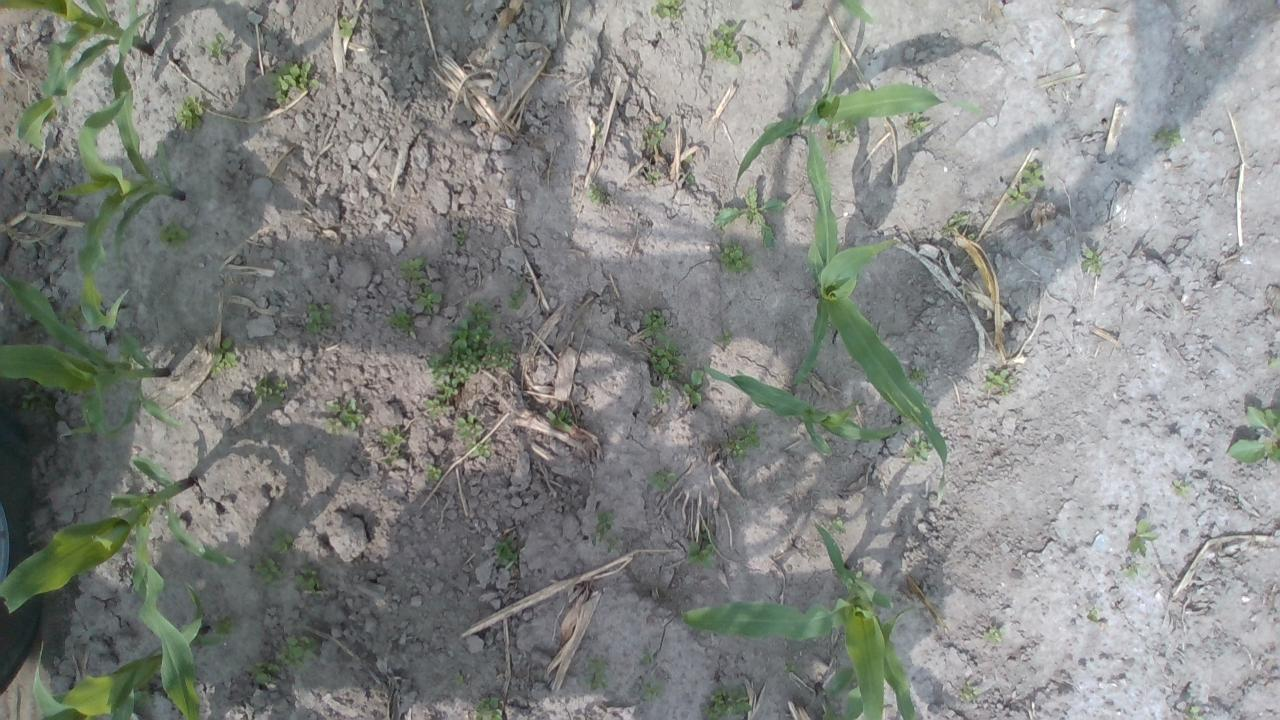Maize: (0, 455, 231, 719), (734, 39, 947, 265), (681, 525, 922, 717), (792, 243, 948, 505), (56, 88, 190, 330), (0, 274, 177, 435), (34, 584, 210, 718), (0, 0, 156, 149), (698, 360, 908, 458), (814, 662, 876, 720), (836, 1, 880, 26)
Weeds: (714, 186, 784, 246), (1225, 400, 1280, 470), (429, 350, 518, 378), (702, 682, 752, 720), (274, 61, 318, 104), (702, 20, 742, 65), (326, 396, 364, 434), (650, 338, 683, 380), (452, 319, 492, 350), (1128, 518, 1158, 558), (716, 244, 754, 272), (212, 334, 240, 372), (256, 374, 289, 406), (276, 636, 318, 660), (416, 279, 444, 314), (176, 95, 202, 132), (1148, 126, 1182, 151), (492, 538, 520, 568), (306, 304, 334, 333), (253, 556, 284, 582), (586, 658, 610, 691), (250, 660, 284, 683), (641, 120, 670, 146), (906, 435, 935, 461), (424, 395, 454, 420), (689, 541, 716, 568), (684, 369, 706, 402), (435, 376, 469, 397), (294, 568, 321, 594), (476, 695, 504, 720), (270, 526, 294, 555), (1081, 245, 1103, 276), (456, 414, 483, 439), (160, 222, 188, 246), (592, 532, 622, 554), (736, 422, 762, 447), (202, 32, 227, 57), (1022, 162, 1046, 188), (650, 1, 684, 19), (386, 310, 416, 330), (546, 408, 573, 430), (984, 370, 1011, 392), (588, 184, 611, 208), (905, 114, 929, 137), (380, 427, 407, 447), (829, 127, 854, 148), (400, 258, 426, 278), (467, 438, 491, 459), (651, 472, 676, 492), (1008, 183, 1030, 205), (595, 512, 615, 536), (644, 309, 666, 330), (642, 681, 663, 702), (474, 304, 494, 324), (1122, 563, 1144, 580), (949, 210, 968, 228), (715, 328, 734, 346), (651, 386, 670, 404), (1172, 480, 1190, 499), (338, 16, 352, 40), (982, 628, 1002, 644), (728, 441, 747, 457), (909, 366, 928, 382), (427, 463, 442, 482), (383, 451, 401, 466), (640, 648, 655, 666), (832, 517, 847, 535), (699, 523, 713, 542), (494, 342, 516, 354), (508, 292, 522, 310), (216, 620, 234, 634), (958, 686, 976, 700), (1190, 706, 1206, 720), (942, 225, 958, 239), (1263, 357, 1280, 370), (644, 329, 666, 338), (684, 172, 696, 188), (784, 660, 796, 676), (646, 171, 660, 183), (454, 672, 466, 686), (642, 146, 656, 157), (1088, 609, 1099, 623), (456, 228, 466, 243), (594, 125, 602, 140), (840, 122, 856, 129), (744, 43, 753, 54), (685, 155, 694, 163), (968, 232, 975, 241)
